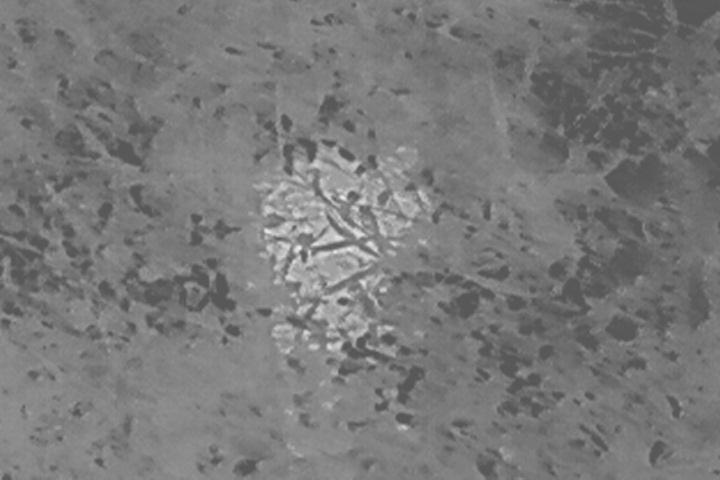landmine: (263, 142, 431, 354)
